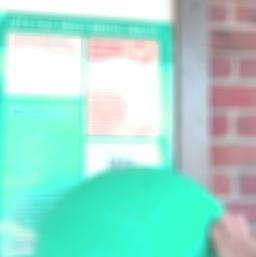algae: (32, 166, 245, 257)
